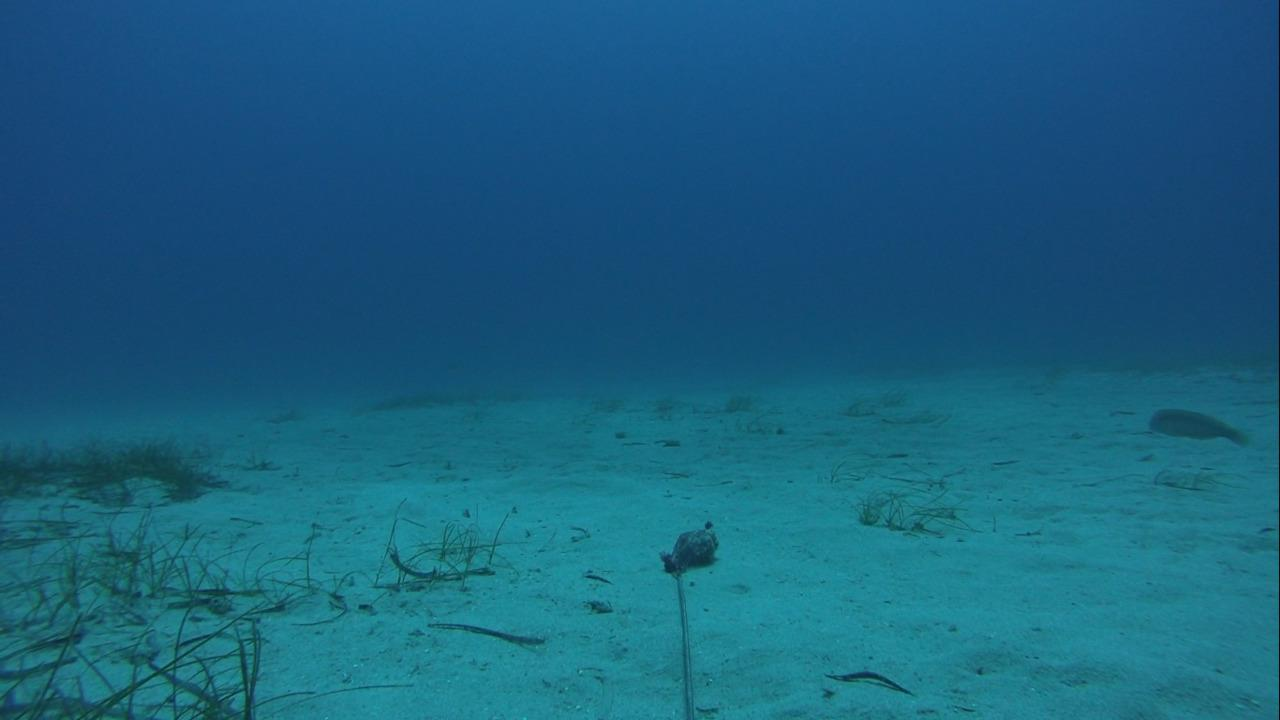raor: (1145, 405, 1249, 446)
